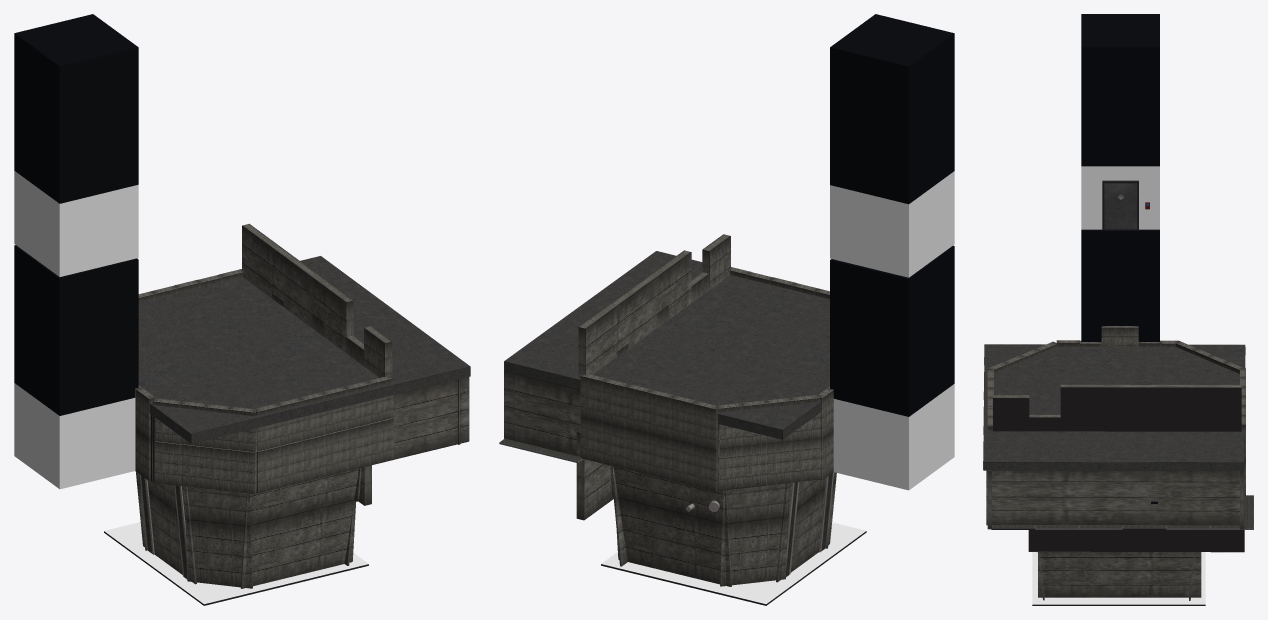
File: Omega Warhead.obj
3 renders of one model, left to right at view 1: azimuth 30°, elevation 25°; view 2: azimuth 150°, elevation 25°; view 3: azimuth 270°, elevation 25°, orthographic. The views are drawn at different scales.
Parts seen in each view (by area): view 1: Part481, Part486, Part723, Part722, Part460, Block27, Block14, Part314, Part342, Part772, Part480, Block28 (+26 smaller); view 2: Part481, Part486, Part723, Part722, Part873, Block23, Block6, Part314, Part472, Part804, Decal2, Part880 (+28 smaller); view 3: Part481, Part486, Part289, Part723, Part722, Part311, Part915, Part264, Part484, Decal2, Door25, Part278 (+6 smaller).
Boxes of the visible parts, x1,y1,x2,y2 form: Part481: (139, 256, 470, 443); Part486: (138, 256, 469, 433); Part723: (14, 14, 138, 203); Part722: (14, 245, 138, 415); Part460: (242, 500, 355, 588); Block27: (58, 184, 138, 276); Block14: (58, 398, 135, 489); Part314: (242, 226, 345, 352); Part342: (255, 377, 468, 492); Part772: (185, 519, 252, 588); Part480: (245, 468, 360, 526); Block28: (16, 172, 57, 275); Part481: (504, 251, 829, 439); Part486: (505, 251, 829, 429); Part723: (830, 14, 954, 204); Part722: (830, 245, 954, 416); Part873: (616, 498, 730, 586); Block23: (830, 185, 910, 277); Block6: (833, 399, 910, 490); Part314: (586, 252, 691, 374); Part472: (504, 371, 718, 491); Part804: (720, 517, 787, 586); Decal2: (601, 522, 866, 603); Part880: (610, 466, 727, 524); Part481: (983, 344, 1245, 470); Part486: (983, 344, 1245, 462); Part289: (986, 470, 1239, 525); Part723: (1081, 14, 1159, 166); Part722: (1081, 229, 1159, 341); Part311: (1060, 387, 1241, 431); Part915: (1038, 552, 1201, 597); Part264: (1028, 530, 1244, 551); Part484: (983, 462, 1244, 470); Decal2: (1032, 552, 1205, 604); Door25: (1104, 183, 1137, 228); Part278: (993, 398, 1029, 431).
Size of the model in its own units: 48.71 by 73.26 by 37.14.
42 materials, 19 textured.
